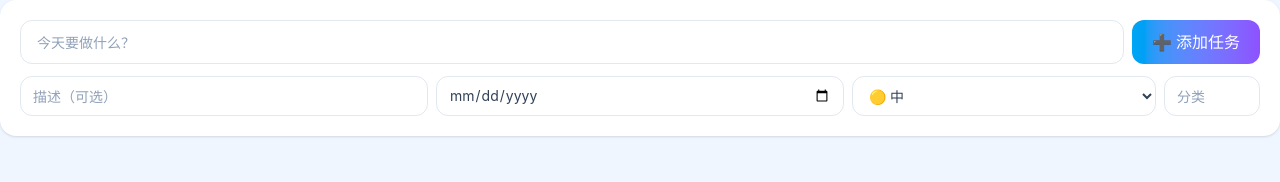
Scenario: TodoForm（规格 3/4） › 空标题提交：显示错误提示，不添加任务
Click the button "➕ 添加任务" at (1196, 42), box [1132, 20, 1260, 64]
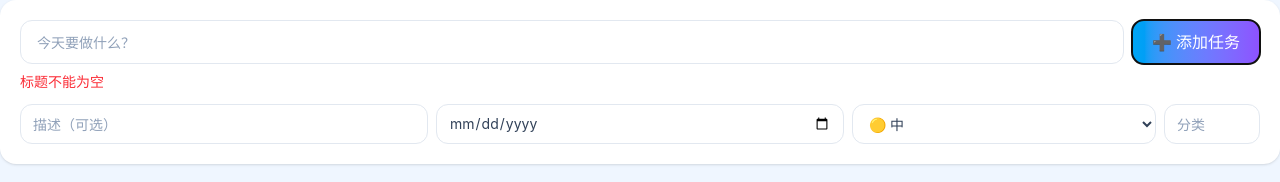
expect the message reads "标题不能为空": met, box [20, 73, 104, 90]
